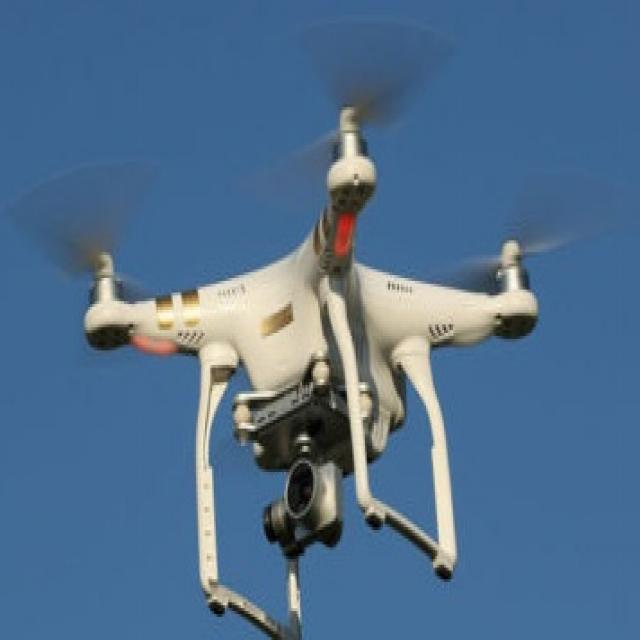drone: (21, 37, 584, 640)
